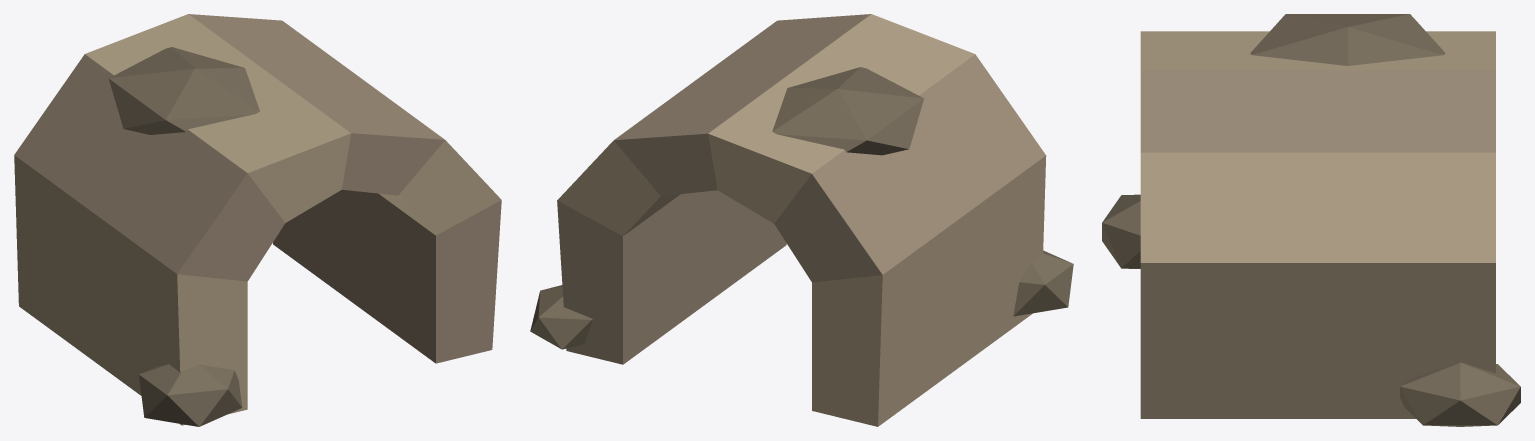
The model's file is Tropical_LagoonGrotto_Simple.glb.
3 views of the same model, side by side, from view 1: azimuth 30°, elevation 25°; view 2: azimuth 150°, elevation 25°; view 3: azimuth 270°, elevation 25° (orthographic). The views are drawn at different scales.
Visible parts, largest first — view 1: Tropical_LagoonGrotto_Simple; view 2: Tropical_LagoonGrotto_Simple; view 3: Tropical_LagoonGrotto_Simple.
Boxes of the visible parts, bbox=[...] form: Tropical_LagoonGrotto_Simple: bbox=[14, 14, 501, 426]; Tropical_LagoonGrotto_Simple: bbox=[530, 14, 1073, 426]; Tropical_LagoonGrotto_Simple: bbox=[1102, 14, 1520, 426].
Bounding box in the file's own units: 8.19 × 5.45 × 7.07.
